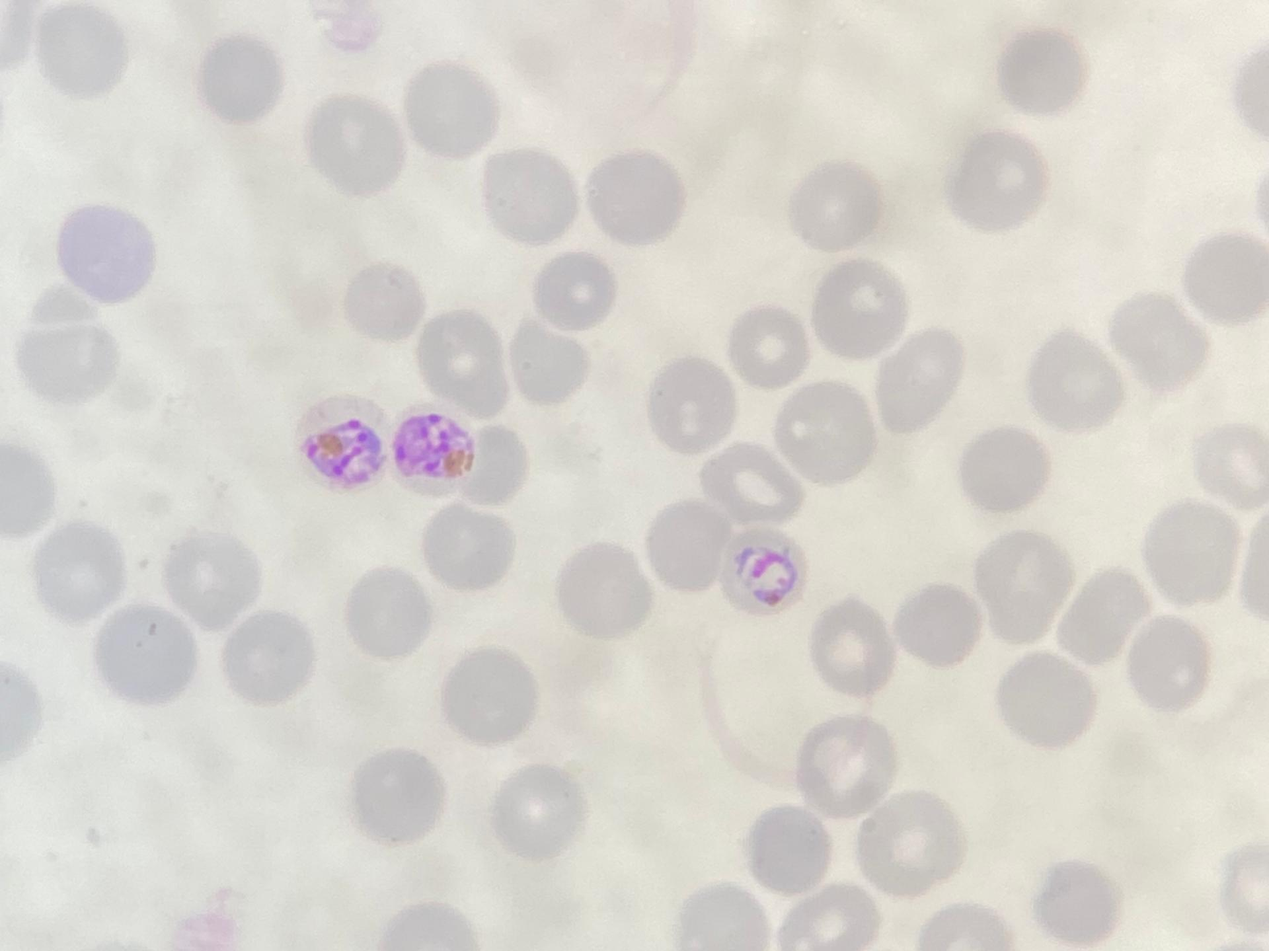Infected: (297, 393, 393, 490), (385, 399, 477, 496), (720, 522, 812, 611)
Uninfected: (972, 529, 1072, 638), (857, 794, 962, 897), (775, 380, 878, 482), (1108, 289, 1208, 394), (93, 606, 196, 706), (414, 310, 512, 415), (1140, 498, 1237, 604), (797, 715, 896, 818), (30, 520, 127, 625), (950, 134, 1051, 234), (304, 92, 403, 192), (1026, 330, 1124, 430), (811, 258, 909, 357), (995, 653, 1095, 750), (57, 204, 155, 302), (163, 531, 262, 628), (555, 540, 653, 637), (350, 746, 445, 846), (585, 150, 686, 244), (481, 146, 579, 242), (874, 328, 964, 432), (402, 61, 499, 157), (440, 648, 537, 744), (1057, 564, 1150, 664), (646, 358, 739, 456), (699, 438, 802, 525), (34, 4, 128, 97), (221, 612, 313, 707), (1181, 232, 1269, 331), (995, 27, 1095, 114), (488, 765, 581, 858), (421, 504, 517, 593), (809, 598, 896, 695), (17, 320, 116, 405), (788, 161, 883, 249), (644, 499, 732, 594), (344, 566, 433, 658), (958, 424, 1050, 512), (744, 804, 833, 894), (1126, 619, 1211, 712), (508, 317, 594, 408), (893, 582, 982, 669), (199, 36, 284, 123), (1034, 862, 1119, 944), (533, 249, 617, 330), (728, 307, 812, 386), (343, 262, 426, 341), (777, 884, 873, 950), (1194, 422, 1269, 505), (675, 884, 768, 950), (454, 424, 527, 507)
